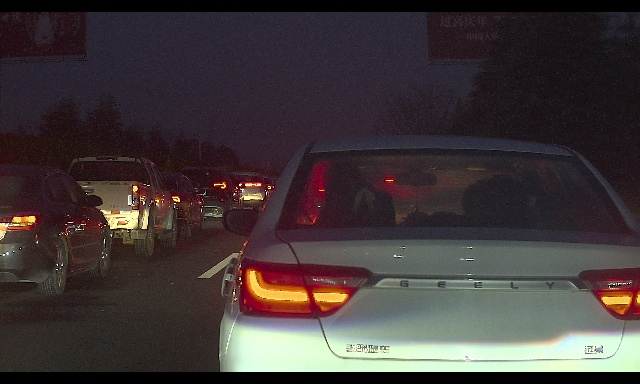car: (219, 133, 640, 372), (0, 163, 111, 296), (66, 154, 178, 257), (131, 172, 206, 238), (178, 166, 239, 222), (200, 173, 243, 217), (224, 171, 268, 212), (240, 175, 274, 208)
